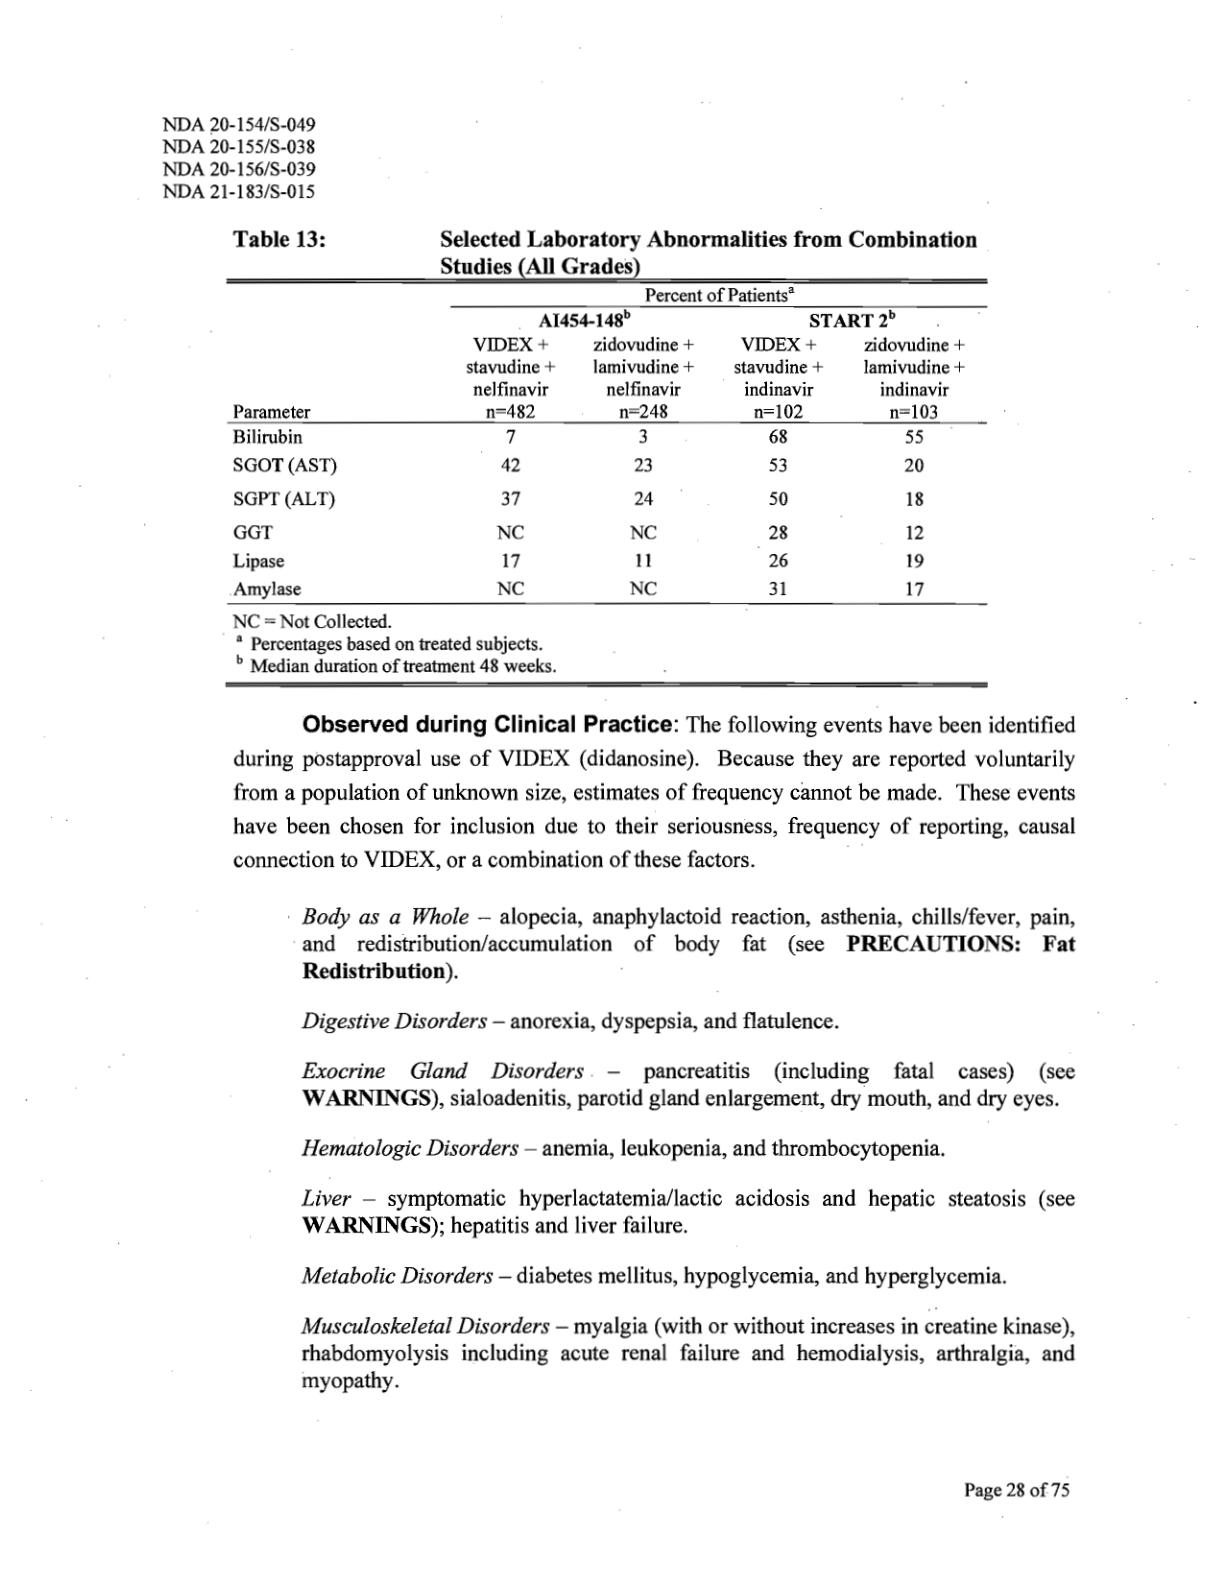partial_lined_merged_cells: (226, 278, 989, 607)
